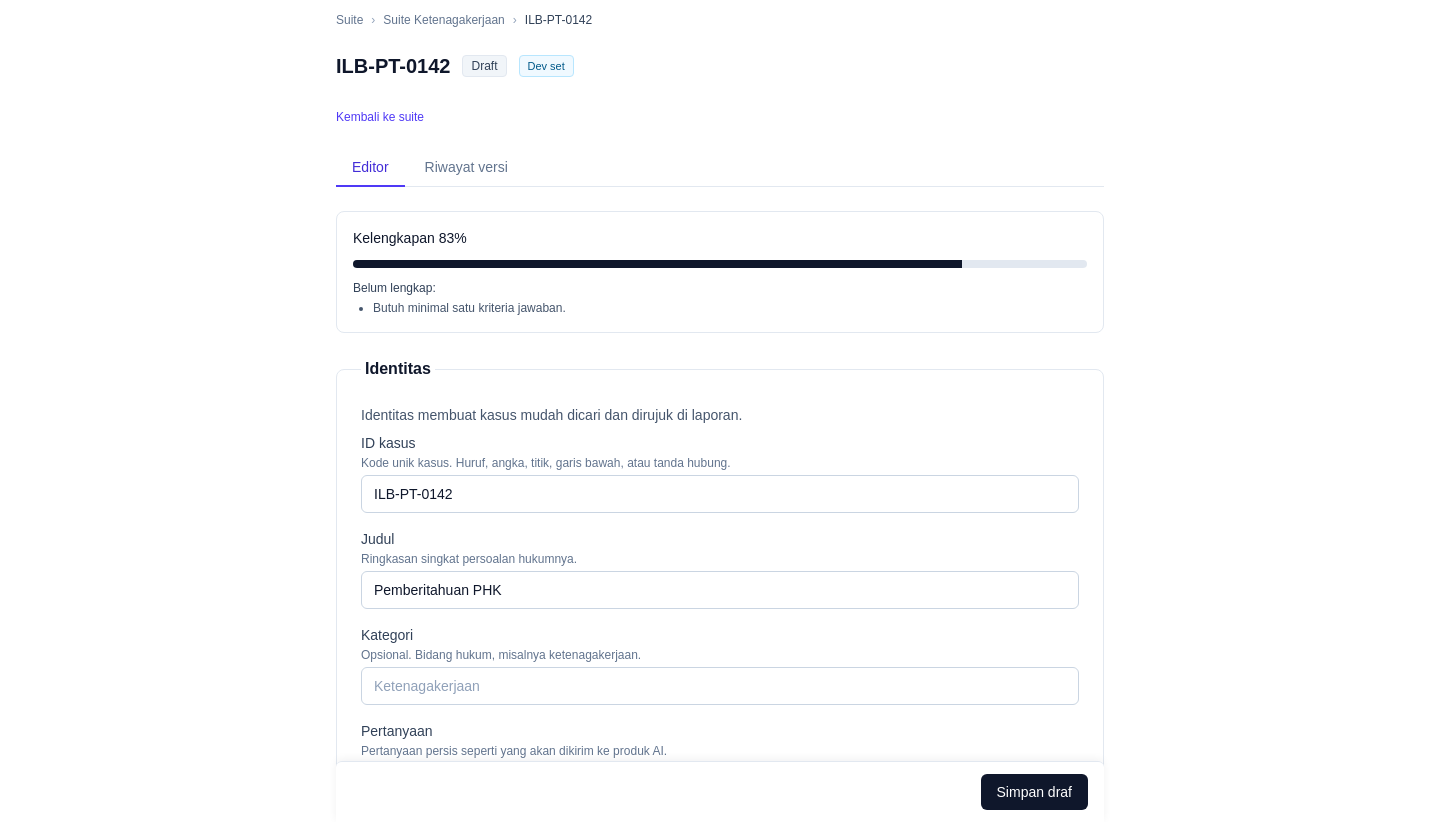
Test case: EditCasePage saving › warns about unsaved changes after an edit and stops warning after saving
Type "!" into the field labelled "Judul". click: (720, 590)
box: [361,571,1079,609]
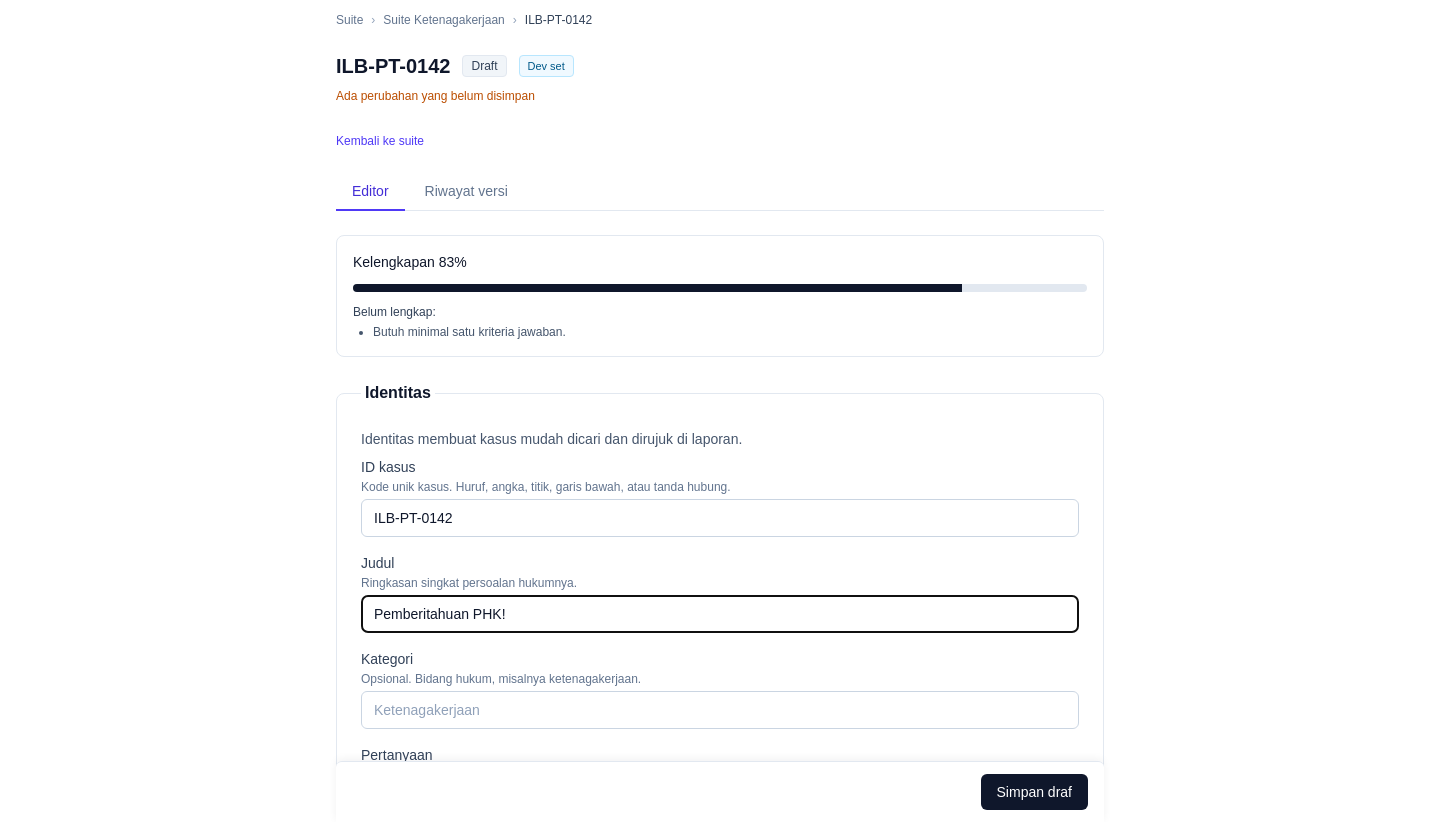
Result: the text "Ada perubahan yang belum disimpan" is shown at [336,89,535,103]
Click the button "Simpan draf". click: (1034, 792)
box: [980,774,1088,810]
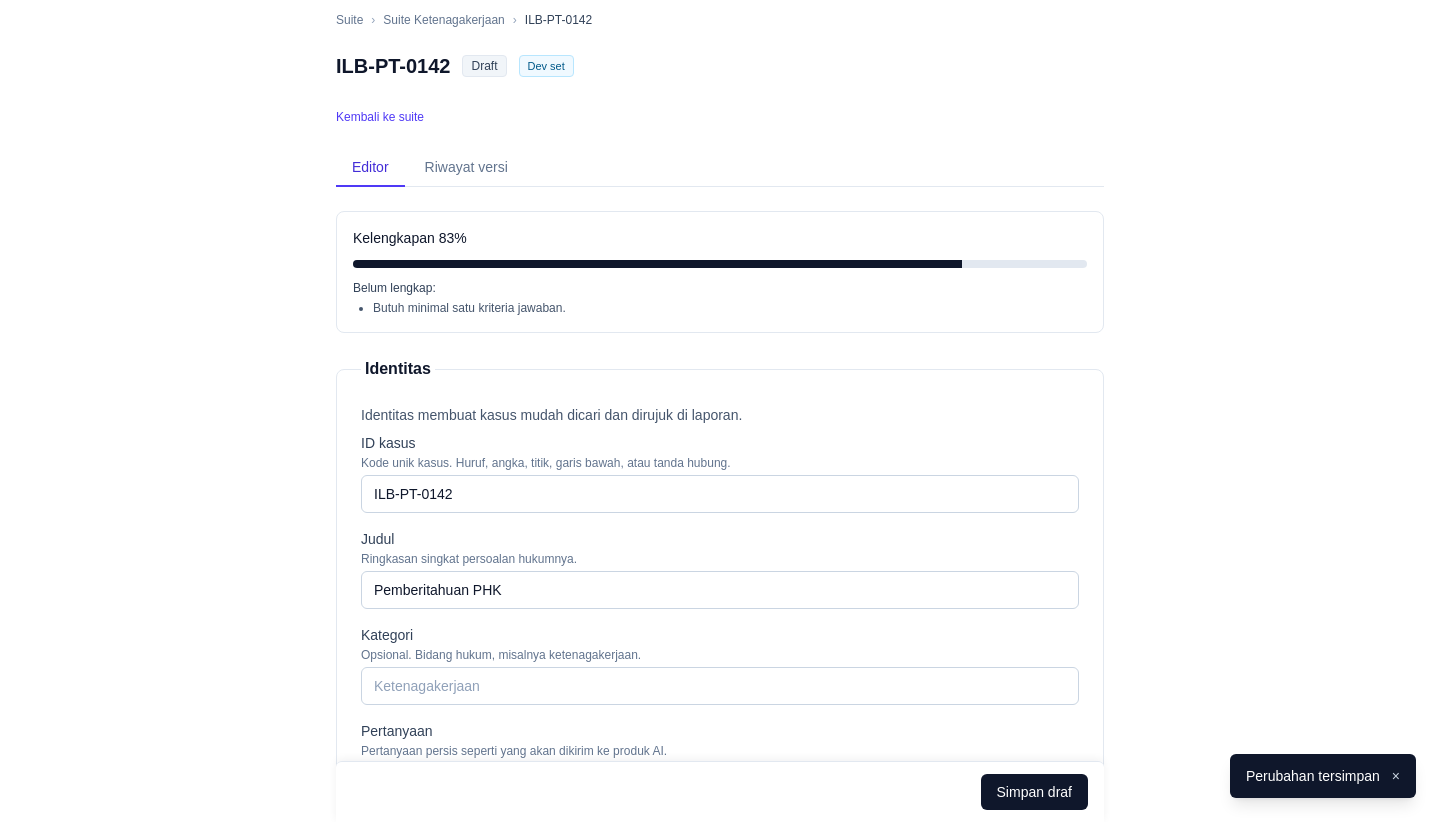
Result: the text "Ada perubahan yang belum disimpan" is gone
